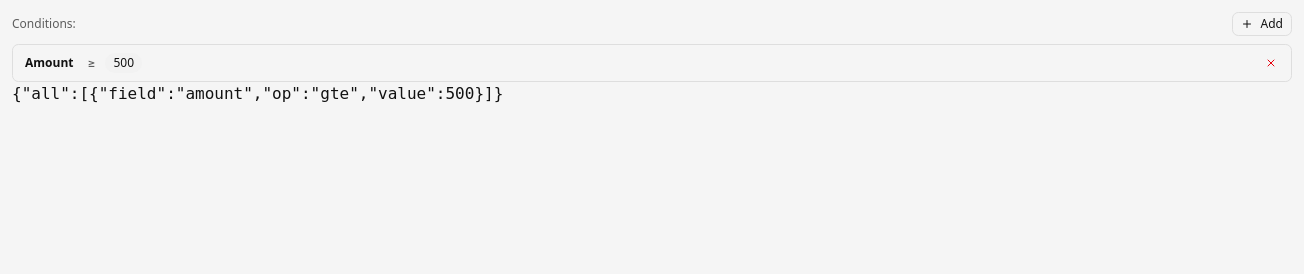
the condition bar › offers comparisons for a numeric field and only membership for an id field
The image size is (1304, 274).
Click the button titled "Change operator" at (92, 63), box [84, 55, 100, 71]
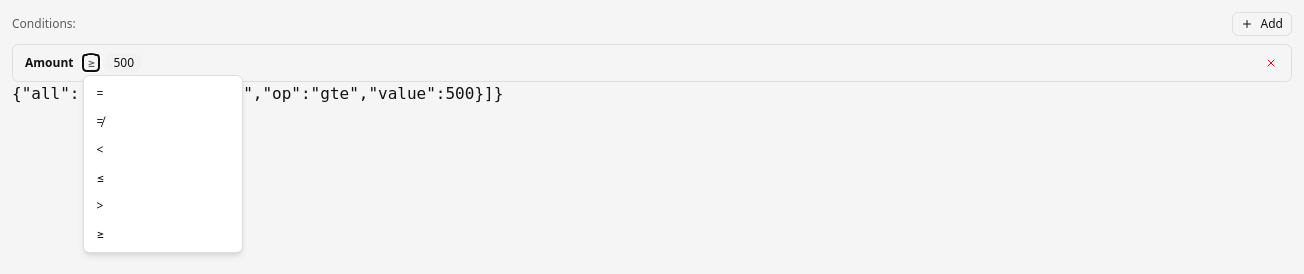
Expected: the button "≤" is shown, [84, 164, 242, 192]
